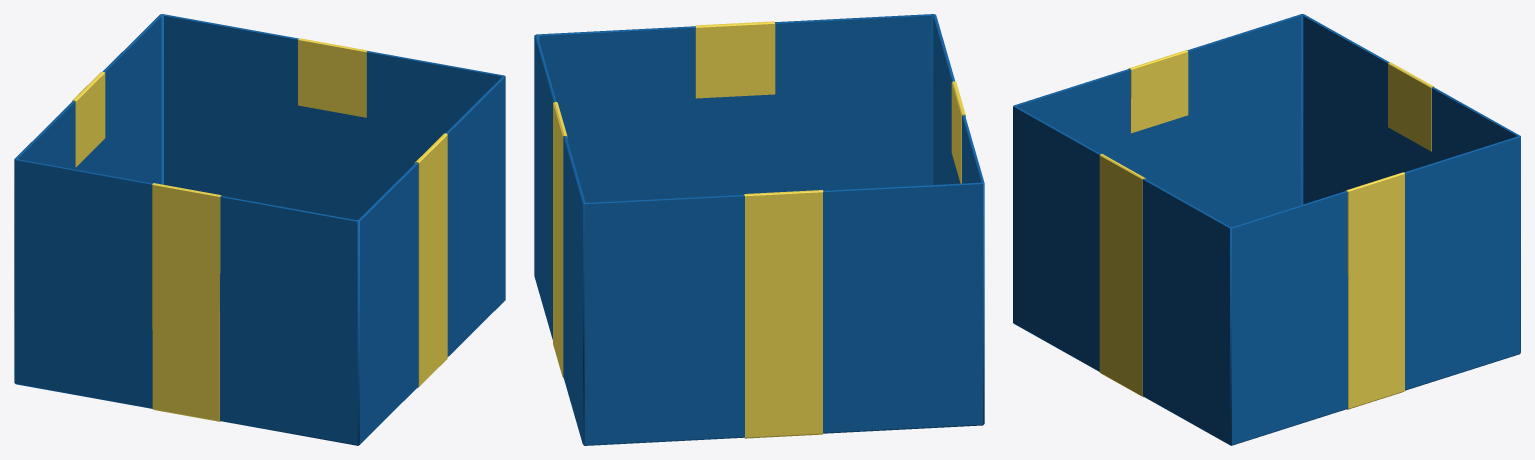
The model's file is Present4.fbx.
3 views of the same model, side by side, from view 1: azimuth 30°, elevation 25°; view 2: azimuth 150°, elevation 25°; view 3: azimuth 270°, elevation 25° (orthographic). The views are drawn at different scales.
Parts seen in each view (by area): view 1: Present4; view 2: Present4; view 3: Present4.
Boxes of the visible parts, box(x1,y1,x2,y2) form: Present4: box(14, 14, 505, 445); Present4: box(534, 14, 984, 445); Present4: box(1013, 14, 1520, 445).
Bounding box in the file's own units: 0.6646 × 0.3172 × 0.6646.
